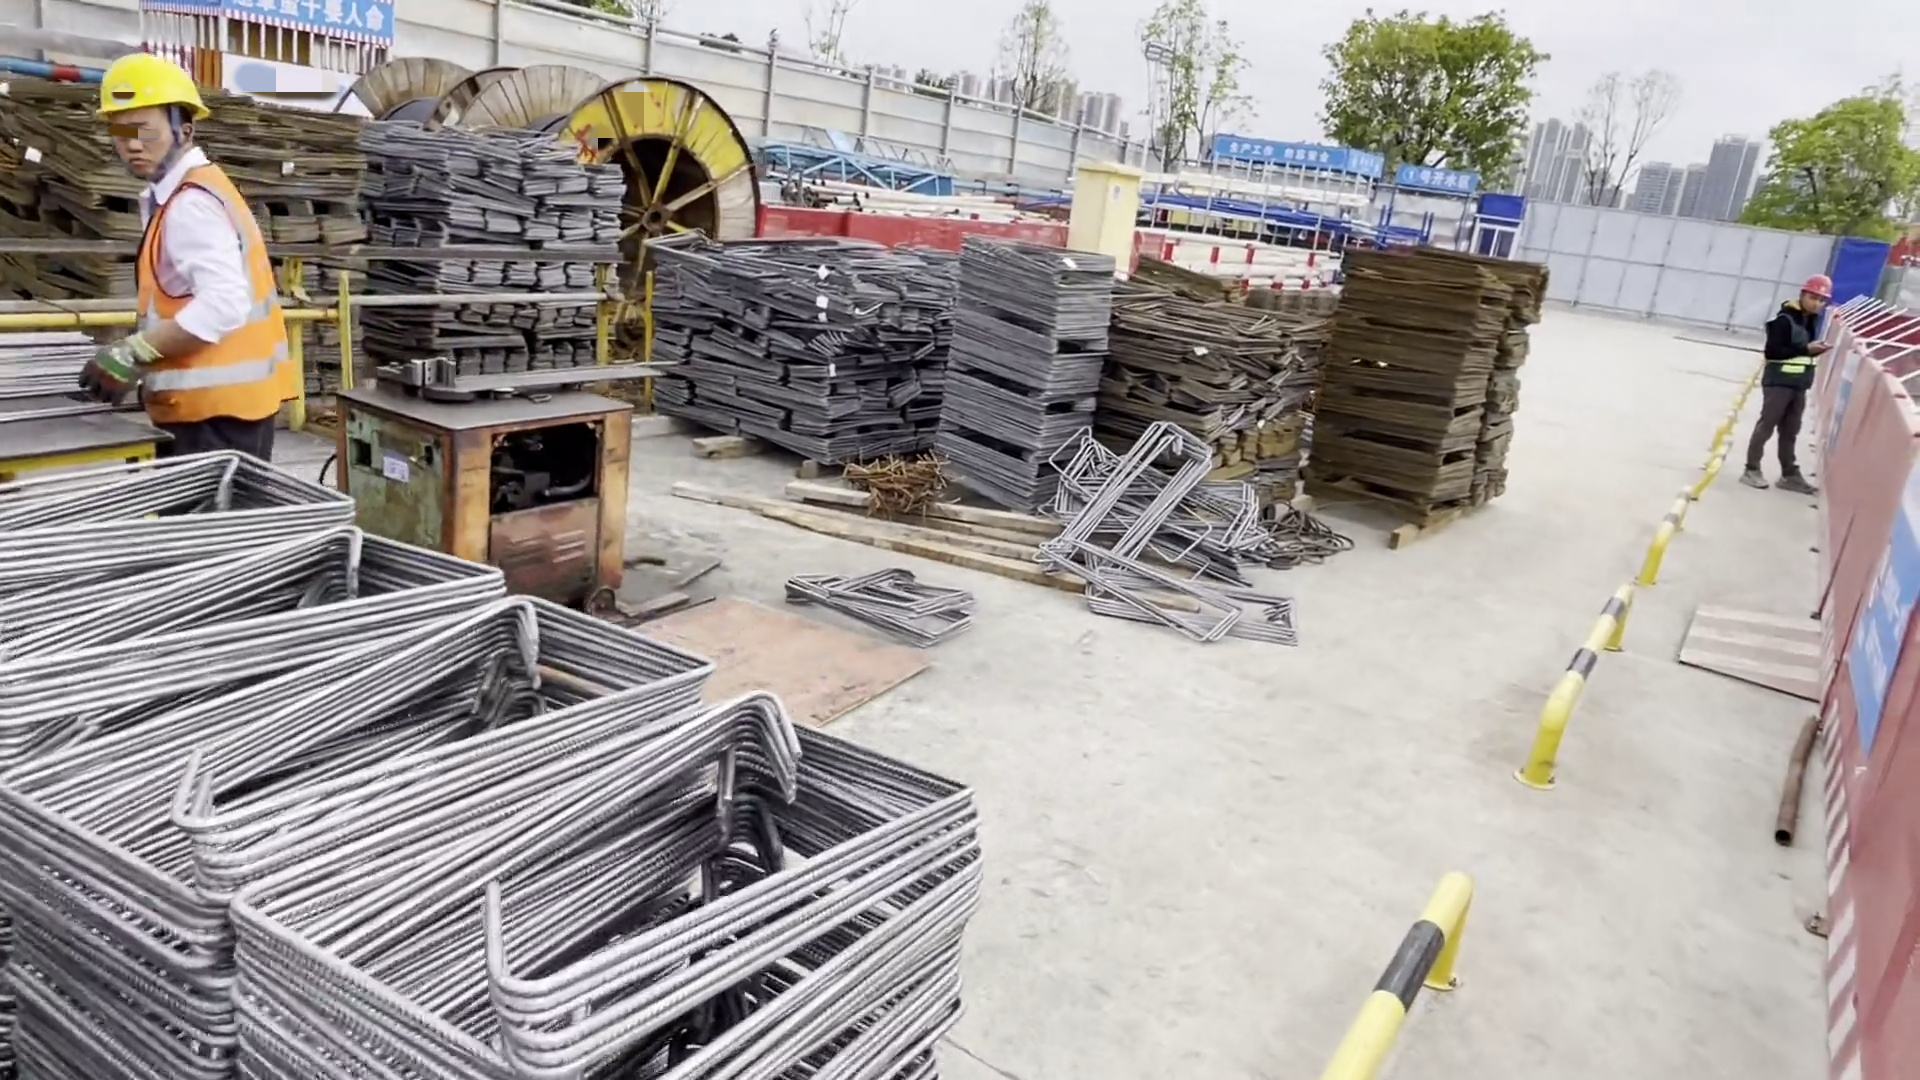cutter: (347, 360, 661, 614)
ebox: (1071, 160, 1137, 275)
fence: (1821, 319, 1920, 1076), (758, 208, 1040, 248)
helmet: (94, 58, 201, 125), (1800, 272, 1826, 300)
person: (79, 48, 307, 493), (1739, 271, 1830, 492)
slogan: (1856, 440, 1917, 736), (246, 1, 394, 47), (1204, 136, 1374, 175)
vest: (133, 174, 305, 420)
